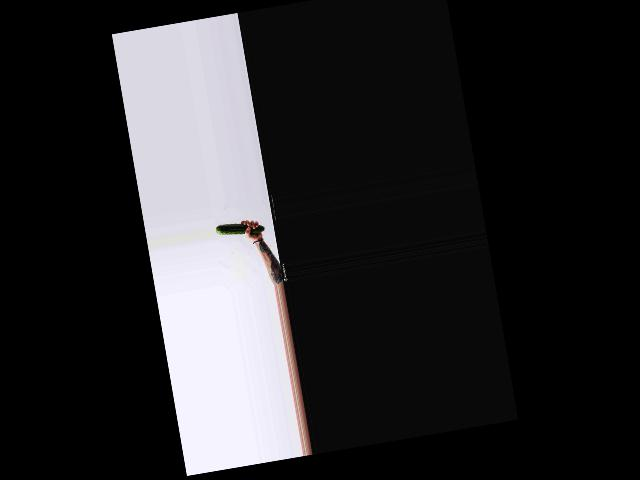cucumber: (215, 217, 264, 239)
